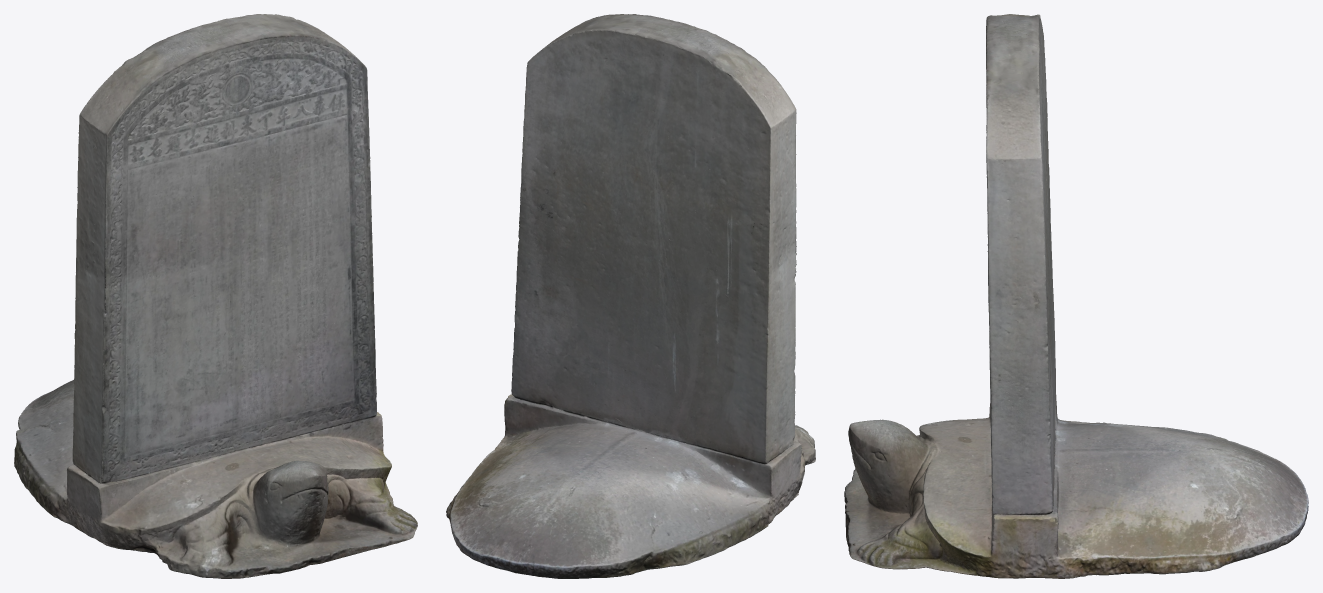
The model's file is bia-1727.glb.
The picture shows the model from 3 angles, left to right: view 1: azimuth 30°, elevation 25°; view 2: azimuth 150°, elevation 25°; view 3: azimuth 270°, elevation 25°; orthographic projection. The views are drawn at different scales.
Visible parts, largest first — view 1: 30-1727; view 2: 30-1727; view 3: 30-1727.
Part boxes in pixels (x1,y1,x2,y2): 30-1727: (14,14,417,578); 30-1727: (446,14,815,578); 30-1727: (844,14,1308,578).
Bounding box in the file's own units: 0.6397 × 1 × 0.8947.
1 material, 1 textured.
